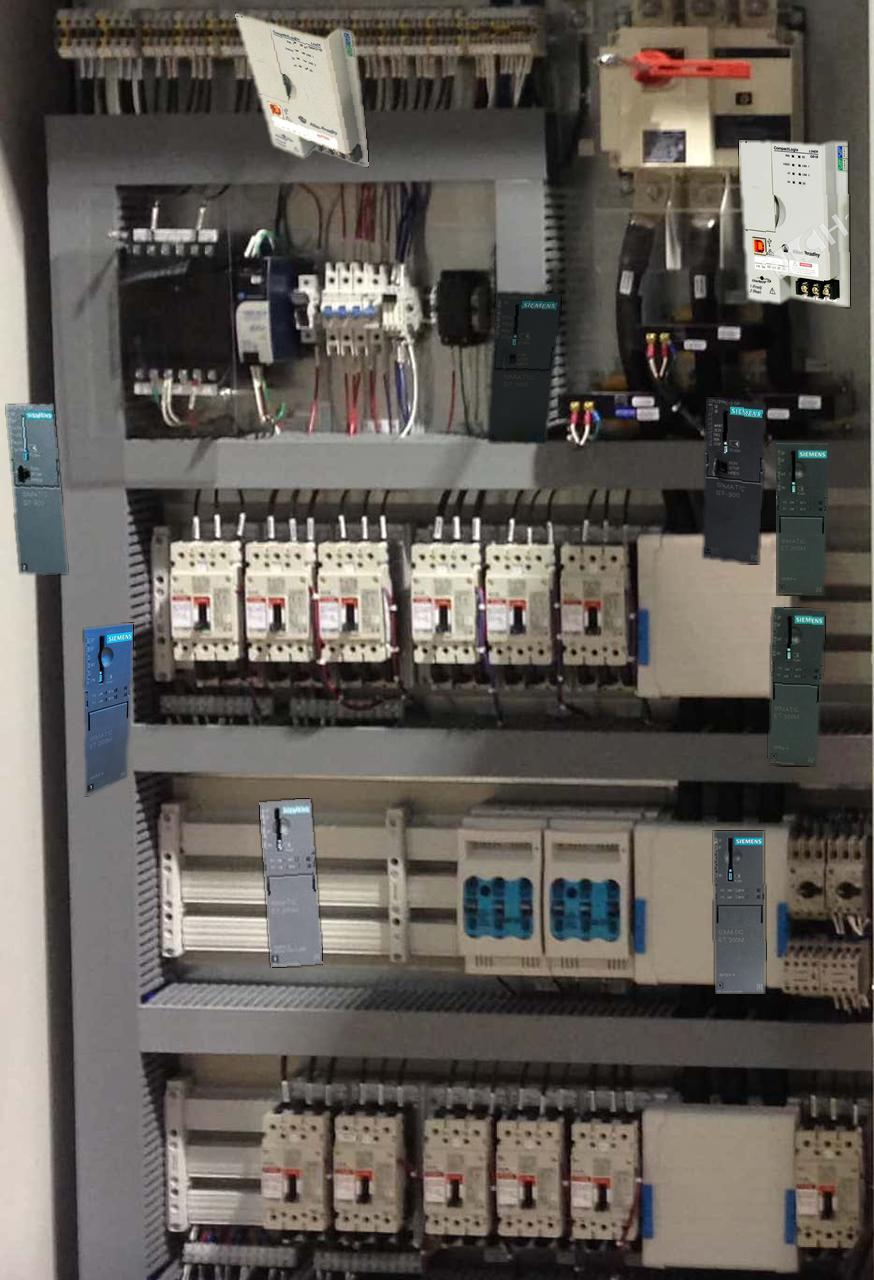AllenBradley: (235, 13, 368, 166), (739, 140, 849, 306)
Siemens: (487, 292, 561, 443), (703, 397, 765, 563), (7, 404, 66, 574)
